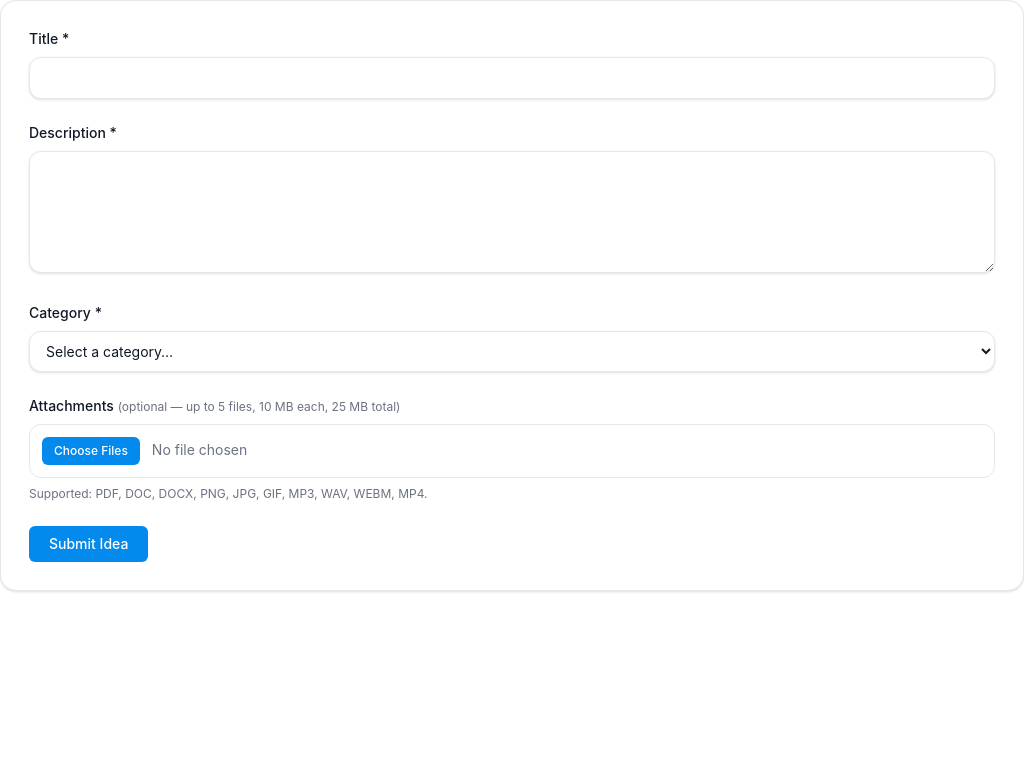
Test: IdeaForm › displays server error returned from action
Type "Some Idea" into the field labelled "Title *" at (512, 78), box [29,57,995,99]
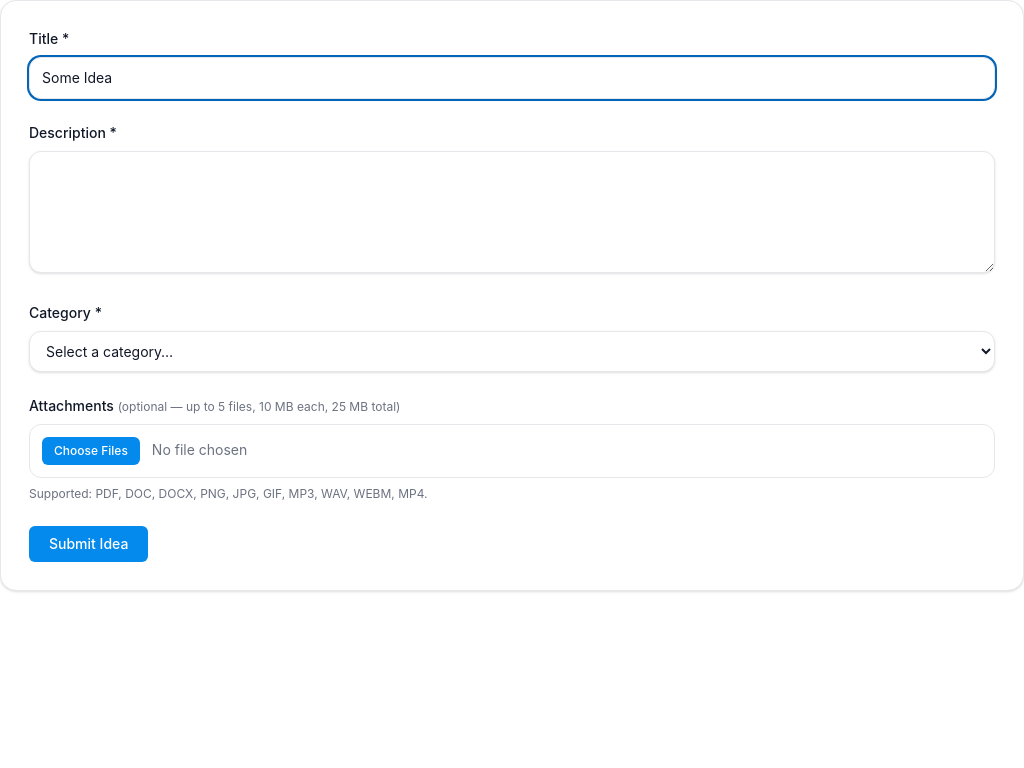
Type "Enough description here to pass." into the text box labelled "Description *" at (512, 212), box [29,151,995,273]
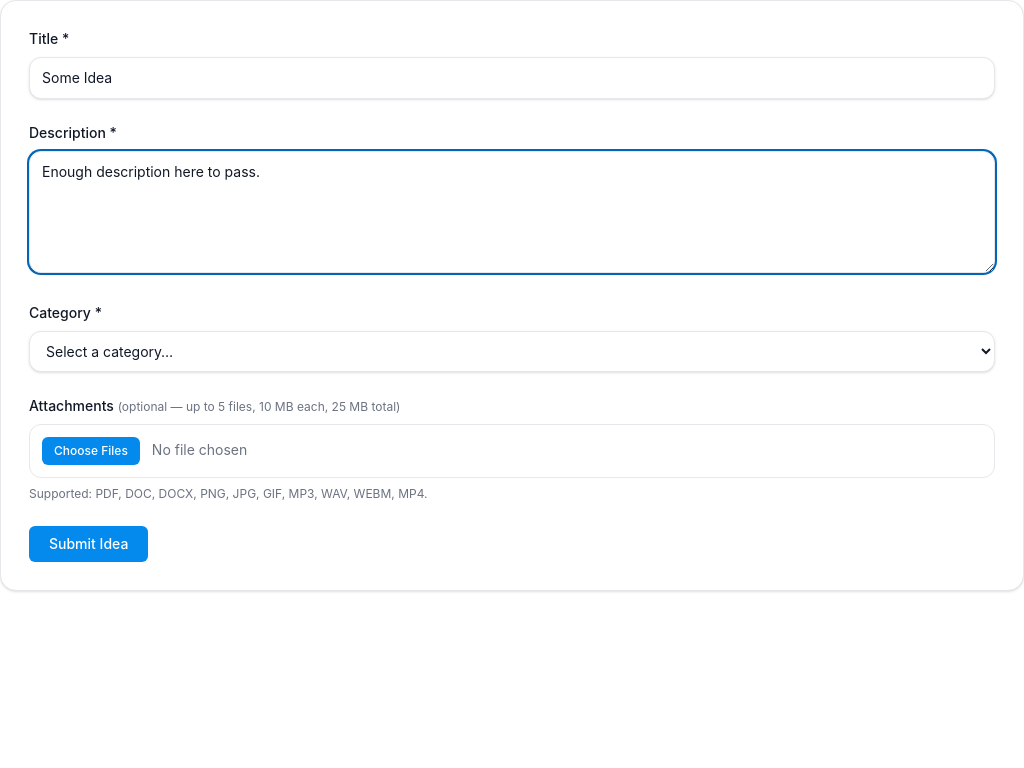
Select "Cost Reduction" in the dropdown labelled "Category *" at (512, 352), box [29,331,995,372]
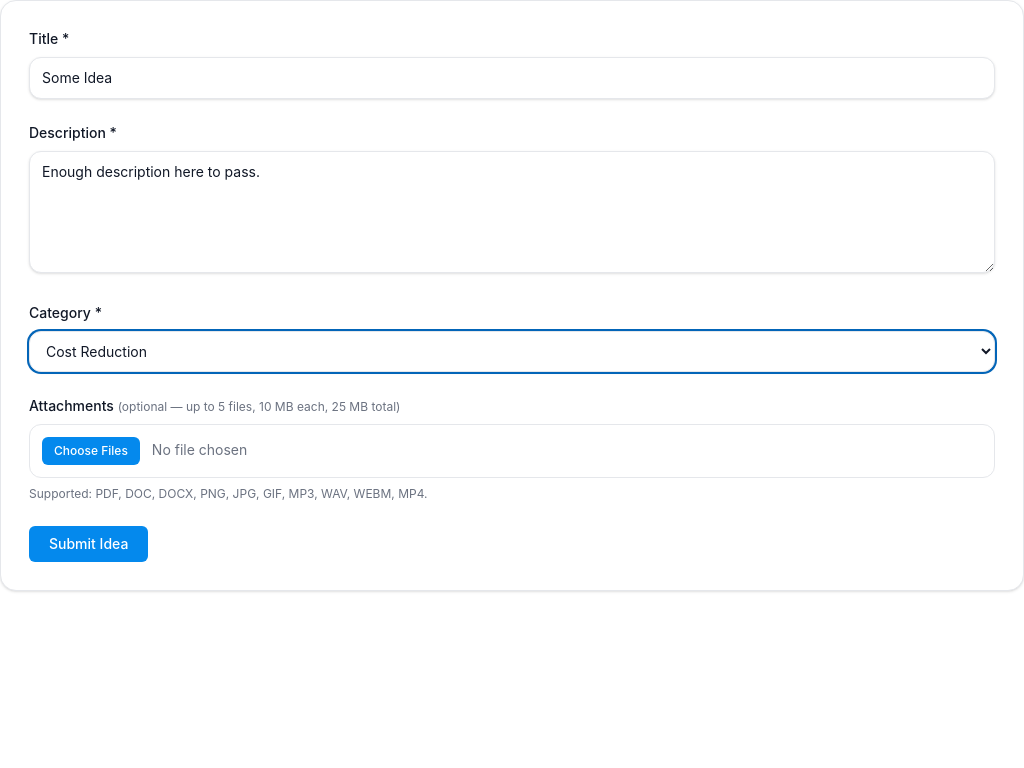
Click the button "Submit Idea" at (89, 544), box [29,526,148,562]
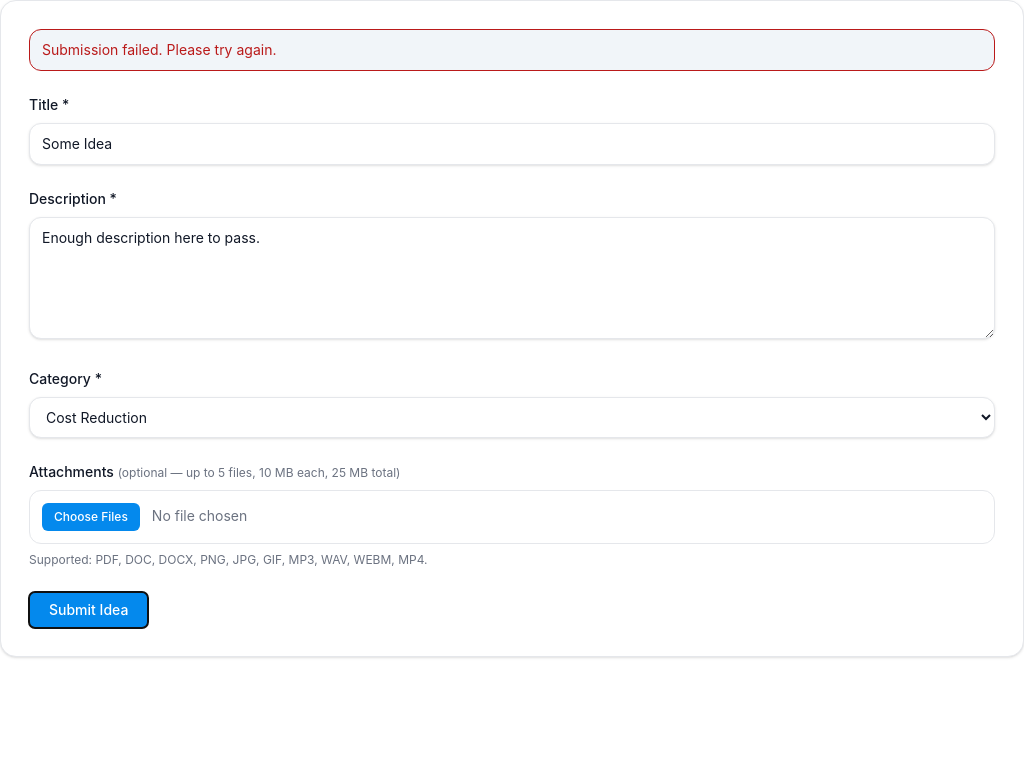
Expected: the message reads "Submission failed. Please try again.", [42,41,276,58]
